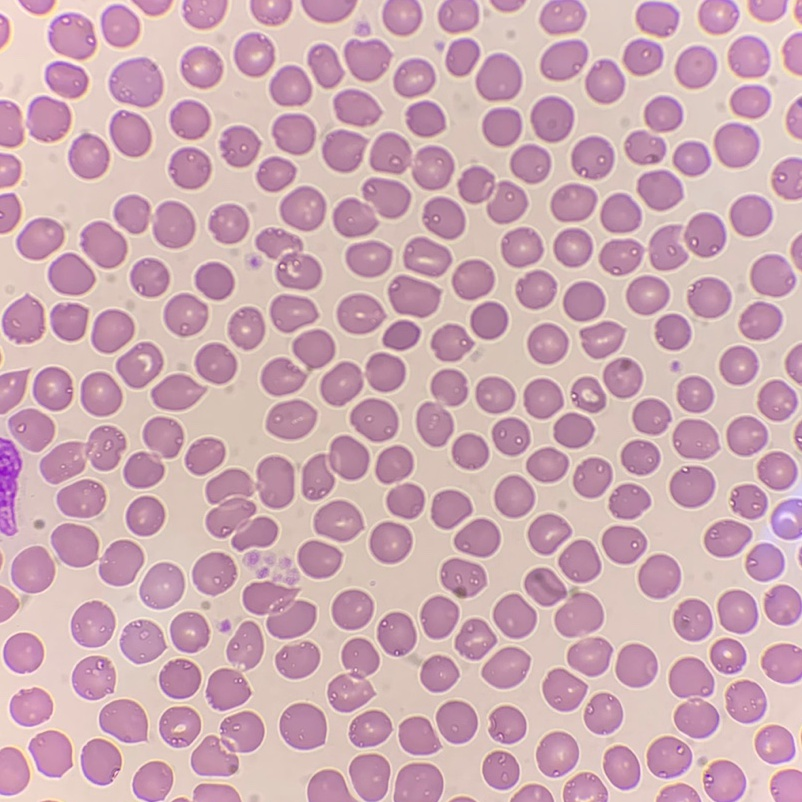RBC: (206, 469, 276, 548), (243, 582, 315, 638), (109, 57, 162, 106), (555, 589, 602, 636), (48, 13, 95, 58), (476, 54, 521, 100), (116, 342, 162, 387), (280, 703, 325, 749), (388, 276, 439, 316), (99, 700, 147, 742), (82, 222, 126, 267), (11, 546, 54, 592), (350, 399, 397, 441), (0, 440, 21, 534), (51, 524, 98, 566), (266, 400, 316, 439), (280, 187, 325, 230), (99, 540, 142, 585), (140, 563, 183, 608), (482, 647, 529, 688), (714, 123, 758, 166), (71, 602, 114, 646), (28, 96, 70, 141), (531, 96, 573, 141), (153, 201, 194, 247), (17, 218, 63, 259), (48, 253, 94, 294), (314, 501, 362, 540), (30, 731, 71, 776), (541, 40, 587, 80), (363, 178, 410, 217), (191, 736, 238, 775), (350, 754, 389, 801), (394, 763, 442, 801), (322, 130, 365, 172), (164, 294, 207, 336), (193, 552, 236, 594), (493, 594, 535, 637), (121, 620, 164, 662), (72, 656, 114, 699), (2, 297, 43, 341), (9, 409, 53, 450), (670, 466, 714, 507), (537, 732, 578, 776), (110, 111, 150, 156), (68, 133, 108, 178), (257, 457, 293, 507), (337, 294, 383, 333), (152, 374, 201, 410), (751, 255, 794, 296), (321, 362, 362, 405), (639, 555, 680, 598), (543, 669, 586, 710), (345, 40, 389, 80), (81, 372, 121, 416), (81, 739, 120, 784), (404, 238, 450, 276), (57, 480, 104, 517), (675, 46, 716, 88), (571, 137, 613, 178), (92, 310, 133, 352), (559, 540, 600, 582), (272, 114, 315, 154), (413, 146, 453, 189), (685, 213, 725, 256), (40, 442, 83, 482), (206, 669, 249, 709), (648, 737, 691, 777), (638, 170, 682, 209), (86, 426, 125, 470), (669, 658, 713, 697), (674, 698, 718, 737), (270, 295, 316, 332), (169, 147, 210, 188), (423, 197, 464, 238), (370, 522, 411, 563), (269, 65, 311, 105), (528, 514, 570, 554), (616, 644, 656, 686), (234, 33, 273, 76), (585, 59, 624, 102), (33, 367, 72, 410), (329, 436, 368, 479), (673, 420, 717, 458), (441, 559, 485, 597), (181, 47, 222, 87), (726, 681, 766, 722), (159, 707, 200, 747), (222, 712, 263, 752), (704, 761, 745, 801), (487, 181, 526, 223), (688, 278, 730, 317), (495, 475, 534, 517), (437, 701, 476, 743), (333, 198, 376, 236), (718, 590, 756, 633), (551, 184, 595, 221), (455, 519, 499, 556), (334, 89, 379, 125), (276, 253, 321, 289), (705, 520, 750, 556), (728, 36, 768, 76), (196, 343, 236, 383), (455, 619, 495, 659), (730, 196, 771, 235), (452, 260, 493, 299), (159, 659, 200, 698), (101, 4, 139, 46), (602, 526, 645, 563), (568, 638, 611, 675), (346, 241, 391, 276), (227, 622, 262, 667), (220, 126, 259, 166), (370, 133, 409, 173), (143, 417, 182, 457), (332, 590, 372, 629), (501, 228, 542, 266), (627, 276, 668, 314), (563, 282, 604, 320), (293, 330, 334, 368), (674, 599, 712, 640), (421, 596, 458, 638), (378, 613, 415, 655), (10, 689, 52, 726), (261, 358, 304, 394), (298, 541, 341, 577), (276, 642, 319, 678), (650, 225, 685, 269), (328, 676, 372, 711), (170, 100, 209, 139), (209, 204, 248, 243), (528, 324, 567, 363), (3, 633, 42, 672), (762, 644, 801, 683), (133, 762, 172, 801), (510, 145, 550, 183), (727, 417, 767, 455), (431, 490, 471, 528), (740, 302, 781, 339), (45, 61, 87, 97), (581, 322, 623, 358), (417, 403, 452, 446), (540, 0, 585, 33), (482, 108, 521, 146), (601, 194, 640, 232), (130, 258, 169, 296), (524, 379, 562, 418), (573, 458, 611, 497), (126, 496, 164, 535), (394, 59, 434, 96), (516, 271, 556, 308), (759, 380, 796, 420), (525, 568, 565, 605), (171, 612, 208, 652), (585, 693, 622, 733), (228, 307, 264, 348), (604, 746, 639, 788), (308, 44, 342, 87), (599, 240, 642, 274), (366, 353, 404, 391), (604, 358, 641, 397), (764, 585, 801, 624), (399, 717, 438, 754), (431, 325, 471, 361), (350, 711, 391, 746), (636, 1, 678, 35), (554, 229, 592, 266), (195, 262, 233, 299), (720, 346, 757, 384), (758, 452, 796, 489), (623, 39, 662, 75), (185, 438, 224, 474), (342, 638, 378, 677), (527, 447, 567, 482), (492, 418, 529, 455), (302, 455, 333, 499), (308, 770, 352, 801), (0, 748, 29, 795), (609, 484, 649, 518), (470, 302, 507, 338), (51, 303, 87, 340), (756, 726, 793, 762), (114, 195, 149, 233), (476, 377, 514, 412), (483, 751, 518, 789), (554, 413, 593, 447), (124, 453, 163, 487), (625, 131, 665, 164), (431, 369, 467, 405), (376, 446, 412, 482), (746, 544, 782, 580), (645, 96, 682, 131), (407, 101, 444, 136), (633, 399, 670, 434), (383, 0, 421, 34), (621, 440, 659, 474), (458, 166, 493, 202), (677, 376, 712, 412), (452, 434, 488, 469), (421, 656, 457, 691), (257, 157, 294, 191), (387, 484, 424, 518), (491, 706, 525, 743), (699, 0, 737, 33), (438, 0, 478, 31), (731, 85, 769, 117), (256, 229, 299, 257), (564, 773, 607, 801), (673, 141, 708, 175), (656, 314, 690, 349), (710, 639, 745, 673), (301, 0, 355, 22), (446, 38, 478, 75), (771, 500, 801, 539), (183, 0, 226, 27), (772, 158, 801, 198), (731, 485, 766, 518), (573, 377, 605, 412), (0, 371, 26, 413), (0, 100, 22, 146), (383, 321, 419, 349), (251, 0, 291, 24), (771, 770, 801, 801), (0, 193, 20, 232), (194, 784, 239, 801), (749, 0, 785, 20), (657, 784, 699, 801), (784, 33, 801, 73), (0, 154, 20, 186), (513, 785, 552, 801), (785, 345, 801, 382), (0, 588, 17, 620), (787, 99, 801, 137), (136, 0, 169, 14), (21, 0, 53, 13), (492, 0, 523, 11), (792, 237, 801, 267), (357, 23, 368, 34), (0, 28, 8, 43), (248, 552, 258, 562), (221, 622, 229, 630), (796, 425, 801, 437), (796, 6, 801, 17), (458, 797, 467, 801)
